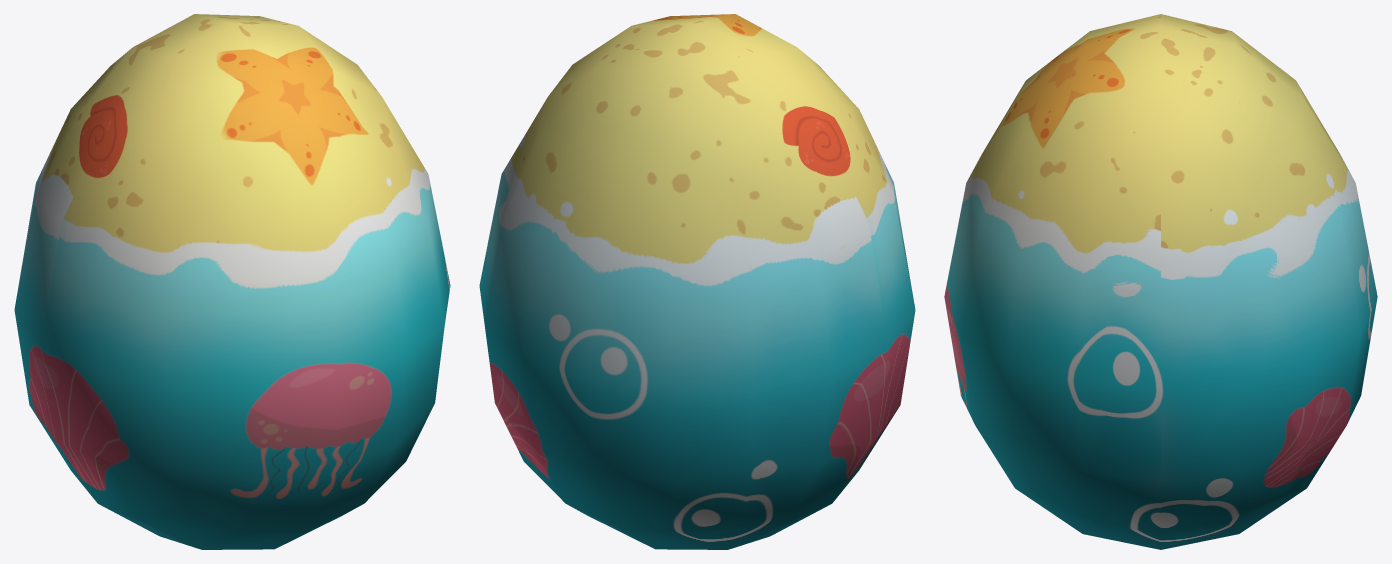
The model's file is Egg1-Sand-Map6.fbx.
3 renders of one model, left to right at view 1: azimuth 30°, elevation 25°; view 2: azimuth 150°, elevation 25°; view 3: azimuth 270°, elevation 25°, orthographic.
Visible parts, largest first — view 1: Egg1-Sand-Map6; view 2: Egg1-Sand-Map6; view 3: Egg1-Sand-Map6.
Part boxes in pixels (x1=…): Egg1-Sand-Map6: x1=14, y1=14, x2=450, y2=549; Egg1-Sand-Map6: x1=479, y1=14, x2=915, y2=549; Egg1-Sand-Map6: x1=944, y1=14, x2=1377, y2=549.
Bounding box in the file's own units: 346 × 444 × 346.
